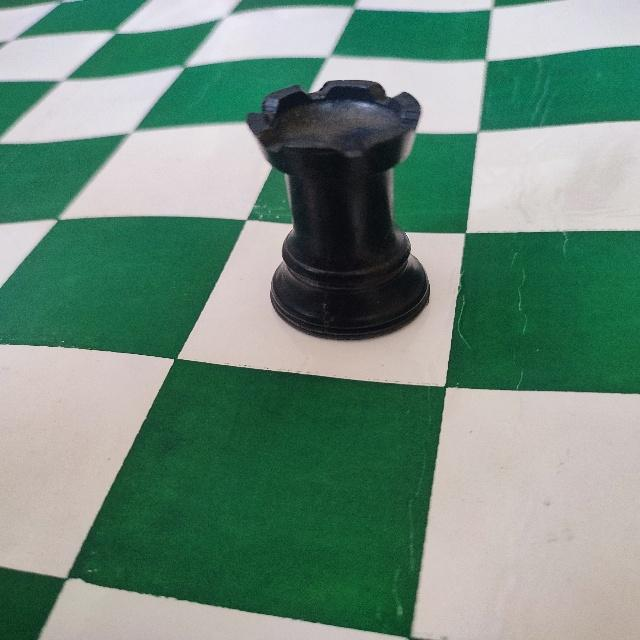Rook: (242, 76, 436, 342)
